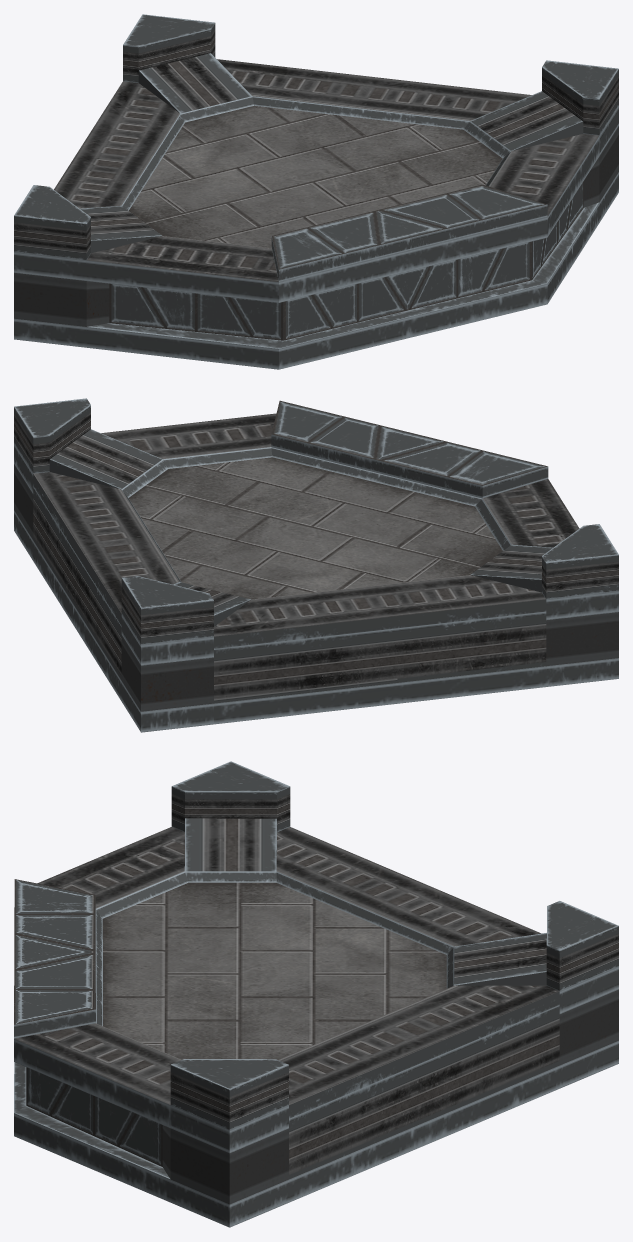
The model's file is Platform.glb.
3 views of the same model, one above another, from view 1: azimuth 30°, elevation 25°; view 2: azimuth 150°, elevation 25°; view 3: azimuth 270°, elevation 25° (orthographic). The views are drawn at different scales.
Visible parts, largest first — view 1: platformPrefabCorner; view 2: platformPrefabCorner; view 3: platformPrefabCorner.
Part boxes in pixels (x1,y1,x2,y2): platformPrefabCorner: [14, 14, 618, 369]; platformPrefabCorner: [14, 398, 618, 732]; platformPrefabCorner: [14, 761, 618, 1227].
Bounding box in the file's own units: 283 × 55.39 × 220.
1 material, 1 textured.
